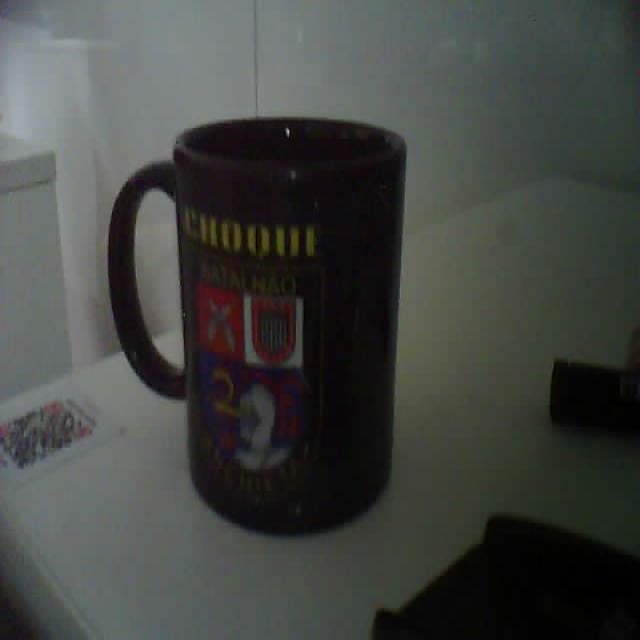caneca: (109, 119, 405, 529)
